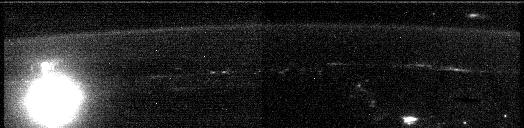positive: (34, 60, 62, 75)
